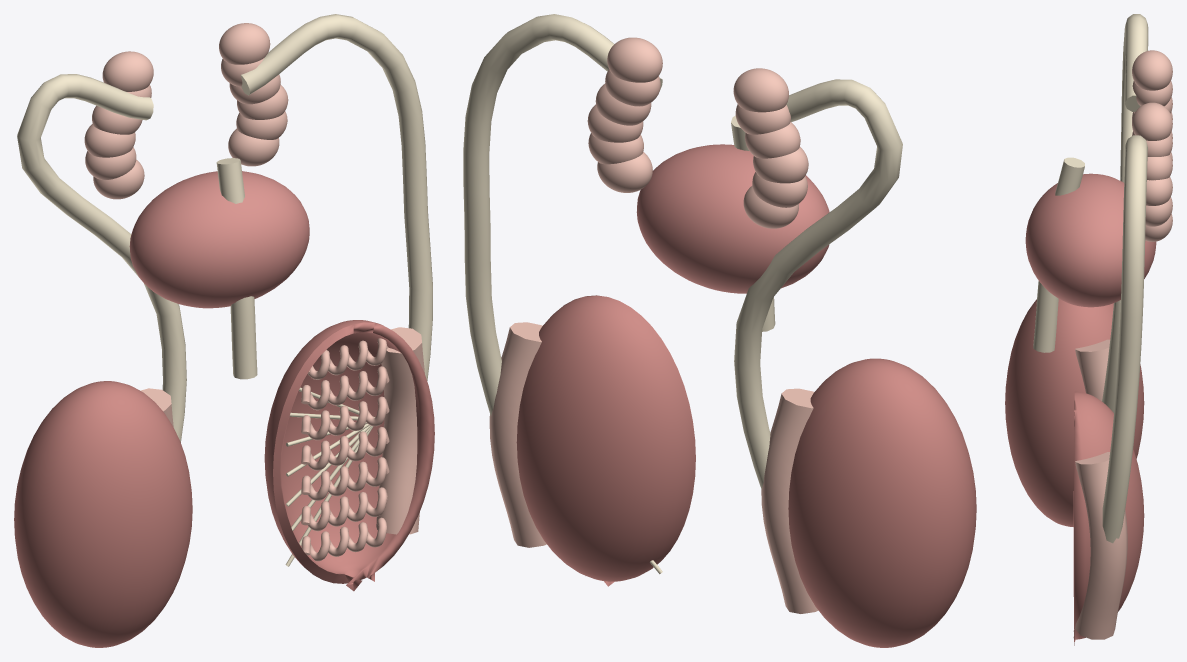
File: male-reproductive.a937a90b.glb
3 views of the same model, side by side, from view 1: azimuth 30°, elevation 25°; view 2: azimuth 150°, elevation 25°; view 3: azimuth 270°, elevation 25° (orthographic). The views are drawn at different scales.
Visible parts, largest first — view 1: Testis -1, Testis 1, Prostate, Ductus deferens 1, Ductus deferens -1, Epididymis 1, Prostatic urethra, Seminal vesicle 1.005, Seminal vesicle -1.005, Seminiferous tubules 5, Seminiferous tubules 3, Seminiferous tubules 2 (+12 smaller); view 2: Testis -1, Testis 1, Prostate, Ductus deferens -1, Ductus deferens 1, Epididymis -1, Epididymis 1, Seminal vesicle 1.005, Seminal vesicle -1.005, Seminal vesicle 1, Seminal vesicle -1.002, Seminal vesicle -1.003 (+7 smaller); view 3: Testis -1, Prostate, Ductus deferens 1, Testis 1, Epididymis 1, Ductus deferens -1, Prostatic urethra, Epididymis -1, Seminal vesicle -1.005, Seminal vesicle 1.005, Seminal vesicle 1.002, Seminal vesicle -1.004 (+4 smaller).
Part boxes in pixels (x1=…): Testis -1: x1=14, y1=381, x2=192, y2=647; Testis 1: x1=264, y1=320, x2=434, y2=591; Prostate: x1=129, y1=171, x2=309, y2=308; Ductus deferens 1: x1=240, y1=14, x2=432, y2=380; Ductus deferens -1: x1=17, y1=74, x2=186, y2=442; Epididymis 1: x1=376, y1=327, x2=424, y2=534; Prostatic urethra: x1=216, y1=158, x2=257, y2=379; Seminal vesicle 1.005: x1=219, y1=23, x2=270, y2=64; Seminal vesicle -1.005: x1=102, y1=51, x2=153, y2=91; Seminiferous tubules 5: x1=301, y1=366, x2=389, y2=410; Seminiferous tubules 3: x1=301, y1=427, x2=389, y2=470; Seminiferous tubules 2: x1=301, y1=457, x2=389, y2=500; Testis -1: x1=788, y1=358, x2=976, y2=647; Testis 1: x1=516, y1=295, x2=695, y2=586; Prostate: x1=636, y1=144, x2=829, y2=293; Ductus deferens -1: x1=734, y1=79, x2=902, y2=489; Ductus deferens 1: x1=463, y1=14, x2=662, y2=415; Epididymis -1: x1=761, y1=388, x2=818, y2=613; Epididymis 1: x1=489, y1=322, x2=546, y2=547; Seminal vesicle 1.005: x1=607, y1=37, x2=662, y2=82; Seminal vesicle -1.005: x1=733, y1=68, x2=788, y2=112; Seminal vesicle 1: x1=597, y1=152, x2=652, y2=192; Seminal vesicle -1.002: x1=753, y1=146, x2=808, y2=183; Seminal vesicle -1.003: x1=745, y1=122, x2=800, y2=158; Testis -1: x1=1005, y1=299, x2=1144, y2=526; Prostate: x1=1025, y1=173, x2=1156, y2=307; Ductus deferens 1: x1=1102, y1=135, x2=1147, y2=543; Testis 1: x1=1073, y1=391, x2=1144, y2=645; Epididymis 1: x1=1075, y1=452, x2=1127, y2=639; Ductus deferens -1: x1=1102, y1=14, x2=1148, y2=412; Prostatic urethra: x1=1033, y1=157, x2=1084, y2=352; Epididymis -1: x1=1075, y1=339, x2=1110, y2=401; Seminal vesicle -1.005: x1=1132, y1=50, x2=1172, y2=90; Seminal vesicle 1.005: x1=1132, y1=102, x2=1172, y2=140; Seminal vesicle 1.002: x1=1146, y1=177, x2=1172, y2=205; Seminal vesicle -1.004: x1=1132, y1=81, x2=1172, y2=106.
Bounding box in the file's own units: 3.12 × 3.8 × 1.13.
